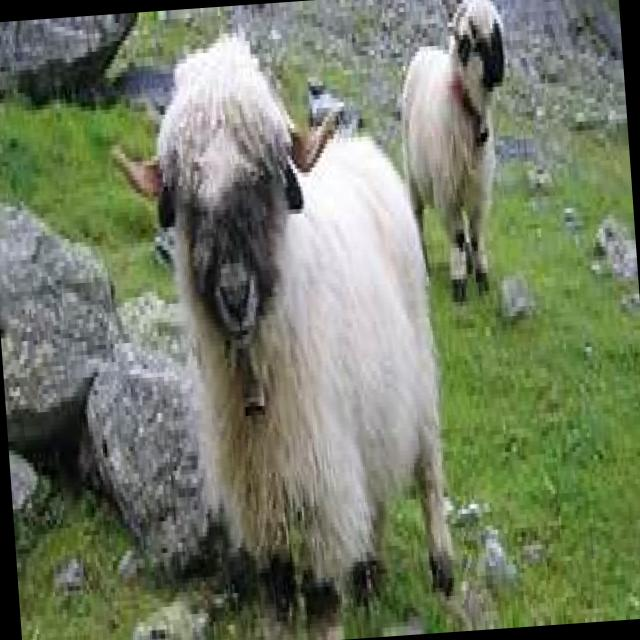animal: (100, 20, 457, 616), (391, 0, 524, 307)
